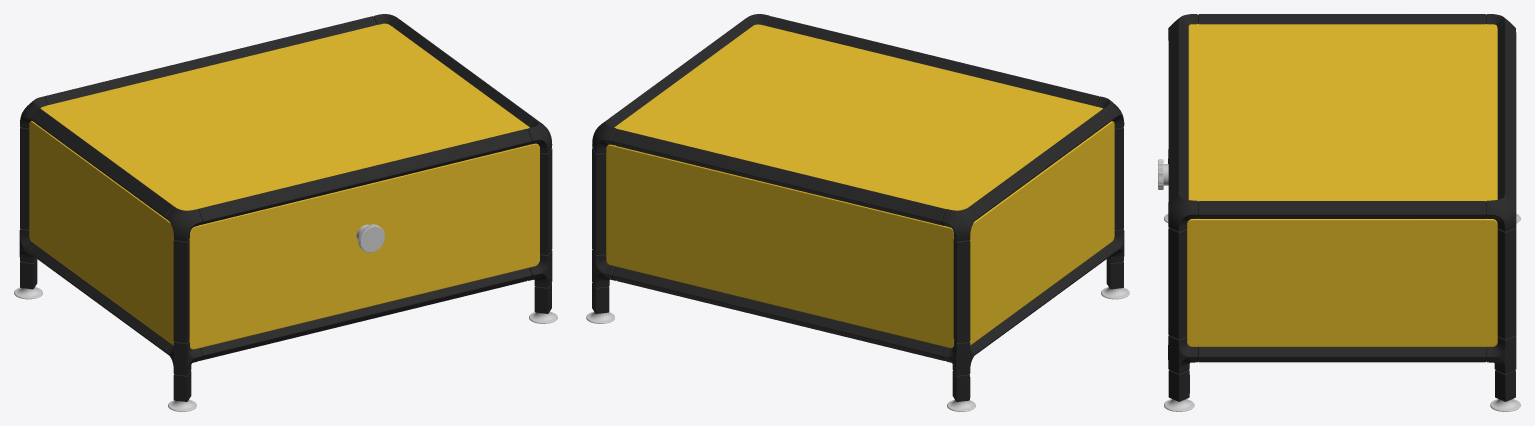
The picture shows the model from 3 angles, left to right: view 1: azimuth 30°, elevation 25°; view 2: azimuth 150°, elevation 25°; view 3: azimuth 270°, elevation 25°; orthographic projection. The views are drawn at different scales.
Visible parts, largest first — view 1: 523x374x154; view 2: 523x374x154; view 3: 523x374x154.
Boxes of the visible parts, x1,y1,x2,y2 form: 523x374x154: (14,14,557,411); 523x374x154: (586,14,1129,411); 523x374x154: (1158,14,1520,411).
Bounding box in the file's own units: 0.6129 × 0.2933 × 0.4707.
